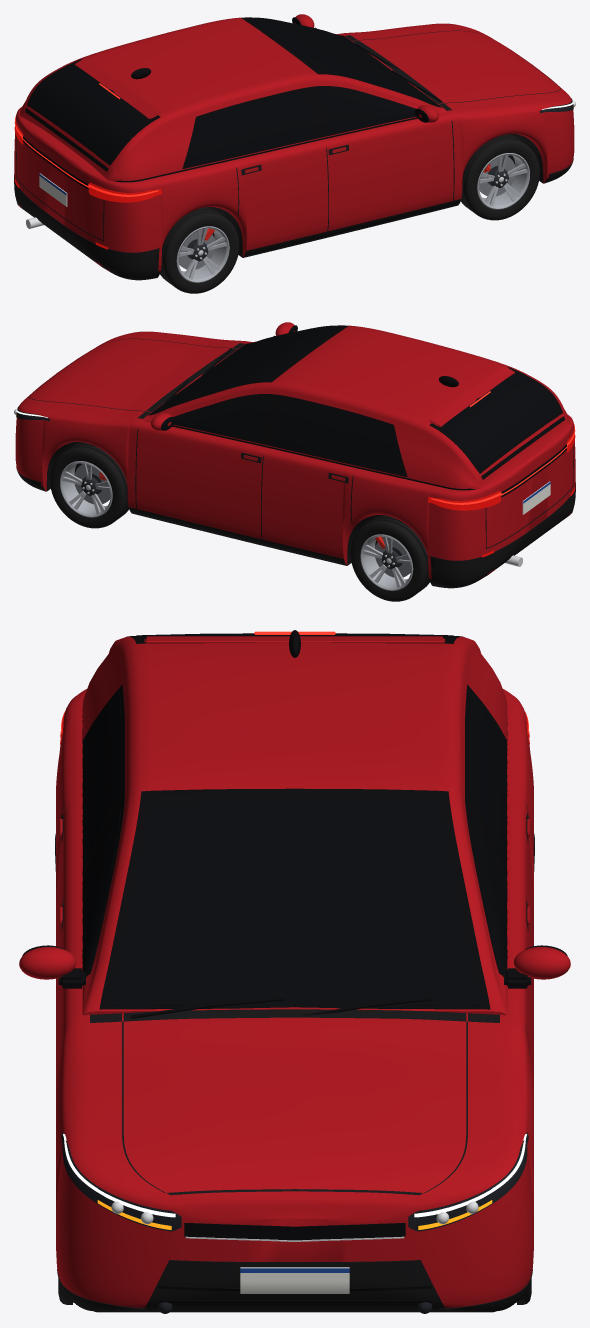
The model's file is carro.glb.
The picture shows the model from 3 angles, top to bottom: view 1: azimuth 30°, elevation 25°; view 2: azimuth 150°, elevation 25°; view 3: azimuth 270°, elevation 25°; orthographic projection. The views are drawn at different scales.
Parts seen in each view (by area): view 1: carroceria, cabine, cabine_vidro_traseiro, cabine_vidro_d_1, cabine_parabrisa, pneu_TD, pneu_DD, cabine_vidro_d_0, carroceria_difusor_d, cabine_moldura_d, roda_DD, roda_TD (+9 smaller); view 2: carroceria, cabine, cabine_vidro_traseiro, cabine_vidro_e_1, cabine_parabrisa, pneu_TE, pneu_DE, cabine_vidro_e_0, carroceria_difusor_e, cabine_moldura_e, roda_DE, roda_TE (+9 smaller); view 3: carroceria, cabine_parabrisa, cabine, grade_inferior, cabine_parabrisa_moldura, cabine_vidro_d_1, cabine_vidro_e_1, grade_superior, cabine_vidro_e_0, cabine_vidro_d_0, placa_dianteira, carroceria_aerofolio (+10 smaller).
Boxes of the visible parts, x1=… form: carroceria: x1=14, y1=23, x2=574, y2=280; cabine: x1=20, y1=17, x2=446, y2=182; cabine_vidro_traseiro: x1=30, y1=64, x2=151, y2=160; cabine_vidro_d_1: x1=186, y1=91, x2=315, y2=165; cabine_parabrisa: x1=248, y1=18, x2=437, y2=105; pneu_TD: x1=160, y1=207, x2=239, y2=293; pneu_DD: x1=461, y1=134, x2=539, y2=220; cabine_vidro_d_0: x1=318, y1=89, x2=415, y2=133; carroceria_difusor_d: x1=53, y1=218, x2=162, y2=278; cabine_moldura_d: x1=182, y1=86, x2=415, y2=169; roda_DD: x1=477, y1=153, x2=529, y2=209; roda_TD: x1=176, y1=226, x2=229, y2=282; carroceria: x1=15, y1=331, x2=575, y2=588; cabine: x1=143, y1=325, x2=569, y2=490; cabine_vidro_traseiro: x1=438, y1=372, x2=559, y2=468; cabine_vidro_e_1: x1=274, y1=399, x2=403, y2=473; cabine_parabrisa: x1=152, y1=326, x2=341, y2=413; pneu_TE: x1=350, y1=515, x2=429, y2=601; pneu_DE: x1=50, y1=442, x2=128, y2=528; cabine_vidro_e_0: x1=174, y1=397, x2=271, y2=441; carroceria_difusor_e: x1=427, y1=526, x2=536, y2=586; cabine_moldura_e: x1=174, y1=394, x2=407, y2=477; roda_DE: x1=60, y1=461, x2=112, y2=517; roda_TE: x1=360, y1=534, x2=413, y2=590; carroceria: x1=56, y1=689, x2=533, y2=1311; cabine_parabrisa: x1=108, y1=796, x2=481, y2=1005; cabine: x1=82, y1=636, x2=507, y2=1015; grade_inferior: x1=142, y1=1260, x2=447, y2=1311; cabine_parabrisa_moldura: x1=99, y1=788, x2=490, y2=1009; cabine_vidro_d_1: x1=84, y1=690, x2=121, y2=870; cabine_vidro_e_1: x1=468, y1=690, x2=505, y2=870; grade_superior: x1=184, y1=1222, x2=405, y2=1240; cabine_vidro_e_0: x1=468, y1=808, x2=507, y2=972; cabine_vidro_d_0: x1=82, y1=808, x2=121, y2=972; placa_dianteira: x1=240, y1=1267, x2=349, y2=1293; carroceria_aerofolio: x1=144, y1=636, x2=445, y2=644.
Size of the model in its own units: 4.13 by 1.48 by 2.02.
